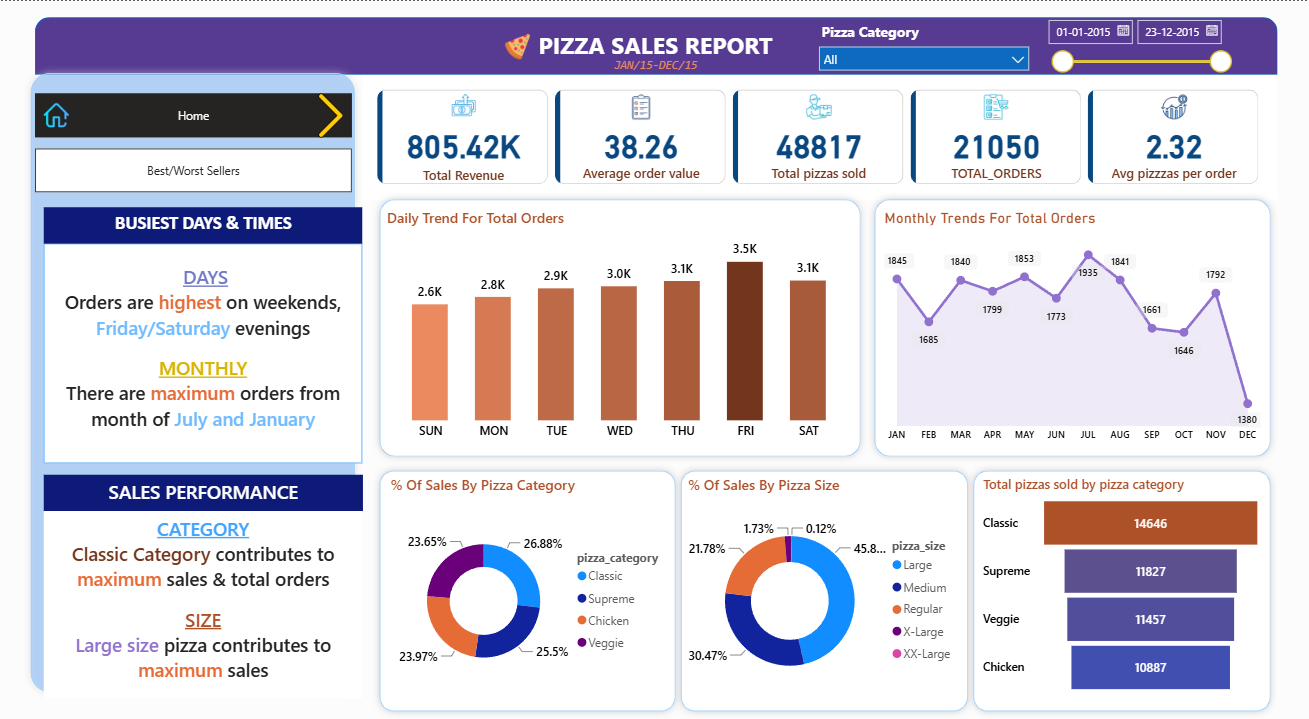

The page's visual inventory and layout, read from the dashboard file:
{"tool":"powerbi","page":{"name":"Home","canvas":[1500,820],"ordinal":0},"visuals":[{"type":"cardVisual","fields":{"Data":["public pizza_sales.Total Revenue","public pizza_sales.Average order value","public pizza_sales.Total pizzas sold","public pizza_sales.TOTAL_ORDERS","public pizza_sales.Avg pizzzas per order"]},"box":[414.3,84.3,1045.7,142.9],"z":0},{"type":"shape","box":[40,18.6,1420,65.7],"z":1000},{"type":"shape","box":[27.5,73.8,386.2,723.8],"z":2000},{"type":"textbox","box":[601.4,27.1,295.7,50],"z":3000},{"type":"textbox","box":[692.5,59.2,113.3,37.5],"z":4000},{"type":"image","box":[561.4,37.1,60,30],"z":5000},{"type":"shape","box":[425.7,218.3,565.7,310],"z":6000},{"type":"columnChart","title":"Daily Trend For Total Orders","fields":{"Category":["public pizza_sales.Order day"],"Y":["public pizza_sales.TOTAL_ORDERS"]},"box":[437.1,235.4,542.9,275.7],"z":7000},{"type":"shape","box":[991.4,218.6,468.6,310],"z":8000},{"type":"areaChart","title":"Monthly Trends For Total Orders","fields":{"Category":["public pizza_sales.Order month"],"Y":["public pizza_sales.TOTAL_ORDERS"]},"box":[1005.7,237.1,440,275.7],"z":9000},{"type":"shape","box":[425.7,528.6,354.3,291.4],"z":10000},{"type":"shape","box":[770,528.6,344.3,291.4],"z":11000},{"type":"shape","box":[1104.3,528.6,355.7,291.4],"z":12000},{"type":"donutChart","title":"% Of Sales By Pizza Category","fields":{"Category":["public pizza_sales.pizza_category"],"Y":["public pizza_sales.Total Revenue"]},"box":[441.4,541.4,322.9,267.1],"z":13000},{"type":"donutChart","title":"% Of Sales By Pizza Size","fields":{"Y":["public pizza_sales.Total Revenue"],"Category":["public pizza_sales.pizza_size"]},"box":[781.4,541.4,322.9,267.1],"z":14000},{"type":"funnel","title":"Total pizzas sold by pizza category","fields":{"Category":["public pizza_sales.pizza_category"],"Y":["public pizza_sales.Total pizzas sold"]},"box":[1118.6,541.4,328.6,255.7],"z":15000},{"type":"textbox","box":[50,277.1,364.3,251.4],"z":16000},{"type":"textbox","box":[50,235.7,364.3,41.4],"z":17000},{"type":"textbox","box":[50,541.8,364.5,41.8],"z":18000},{"type":"textbox","box":[50,582.9,364.3,214.3],"z":19000},{"type":"slicer","fields":{"Values":["public pizza_sales.pizza_category"]},"box":[925.7,18.6,260,65.7],"z":20000},{"type":"slicer","fields":{"Values":["public pizza_sales.order_date"]},"box":[1185.7,11.4,234.3,84.3],"z":21000},{"type":"pageNavigator","box":[40,106.2,362.5,50],"z":21001},{"type":"pageNavigator","box":[40,168.8,362.5,50],"z":21002},{"type":"image","box":[352.5,106.2,50,50],"z":21003},{"type":"image","box":[50,106.2,28.8,50],"z":21004}]}

Visuals, with their boxes in screenshot pixels (x1, y1, x2, y2), scaled from the page's 1500x820 canvas onto the 1309x719 screenshot:
cardVisual - public pizza_sales.Total Revenue x public pizza_sales.Average order value: Rect(362, 74, 1274, 199)
shape: Rect(35, 16, 1274, 74)
shape: Rect(24, 65, 361, 699)
textbox: Rect(525, 24, 783, 68)
textbox: Rect(604, 52, 703, 85)
image: Rect(490, 33, 542, 59)
shape: Rect(371, 191, 865, 463)
"Daily Trend For Total Orders" columnChart: Rect(381, 206, 855, 448)
shape: Rect(865, 192, 1274, 463)
"Monthly Trends For Total Orders" areaChart: Rect(878, 208, 1262, 450)
shape: Rect(371, 463, 681, 718)
shape: Rect(672, 463, 972, 718)
shape: Rect(964, 463, 1274, 718)
"% Of Sales By Pizza Category" donutChart: Rect(385, 475, 667, 709)
"% Of Sales By Pizza Size" donutChart: Rect(682, 475, 964, 709)
"Total pizzas sold by pizza category" funnel: Rect(976, 475, 1263, 699)
textbox: Rect(44, 243, 362, 463)
textbox: Rect(44, 207, 362, 243)
textbox: Rect(44, 475, 362, 512)
textbox: Rect(44, 511, 362, 699)
slicer - public pizza_sales.pizza_category: Rect(808, 16, 1035, 74)
slicer - public pizza_sales.order_date: Rect(1035, 10, 1239, 84)
pageNavigator: Rect(35, 93, 351, 137)
pageNavigator: Rect(35, 148, 351, 192)
image: Rect(308, 93, 351, 137)
image: Rect(44, 93, 69, 137)
